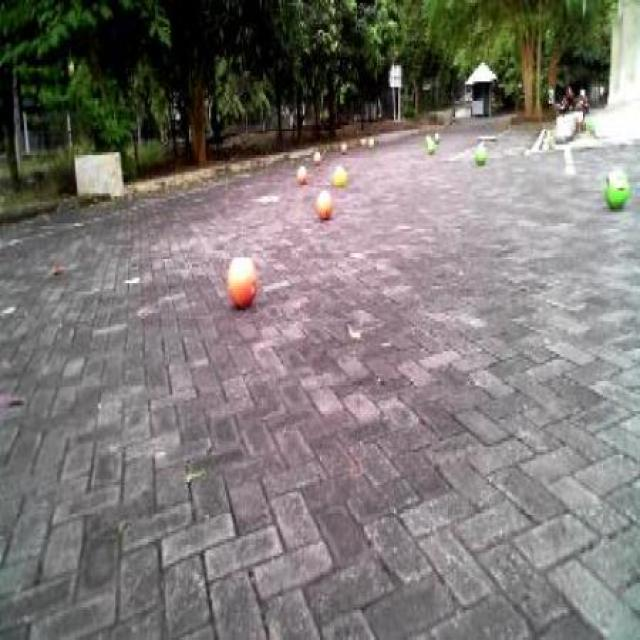buoy: (224, 244, 260, 315), (601, 158, 633, 215), (315, 182, 334, 218), (332, 160, 348, 190), (472, 140, 488, 164)
